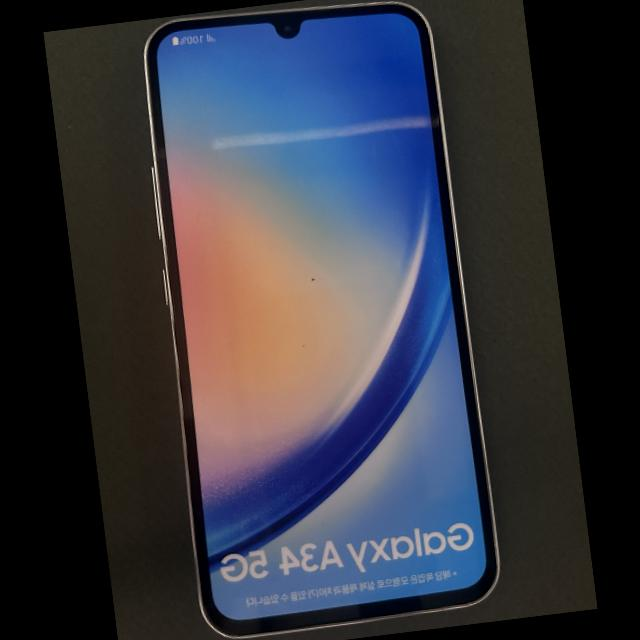lens: (282, 24, 291, 33)
phone: (144, 2, 498, 636)
